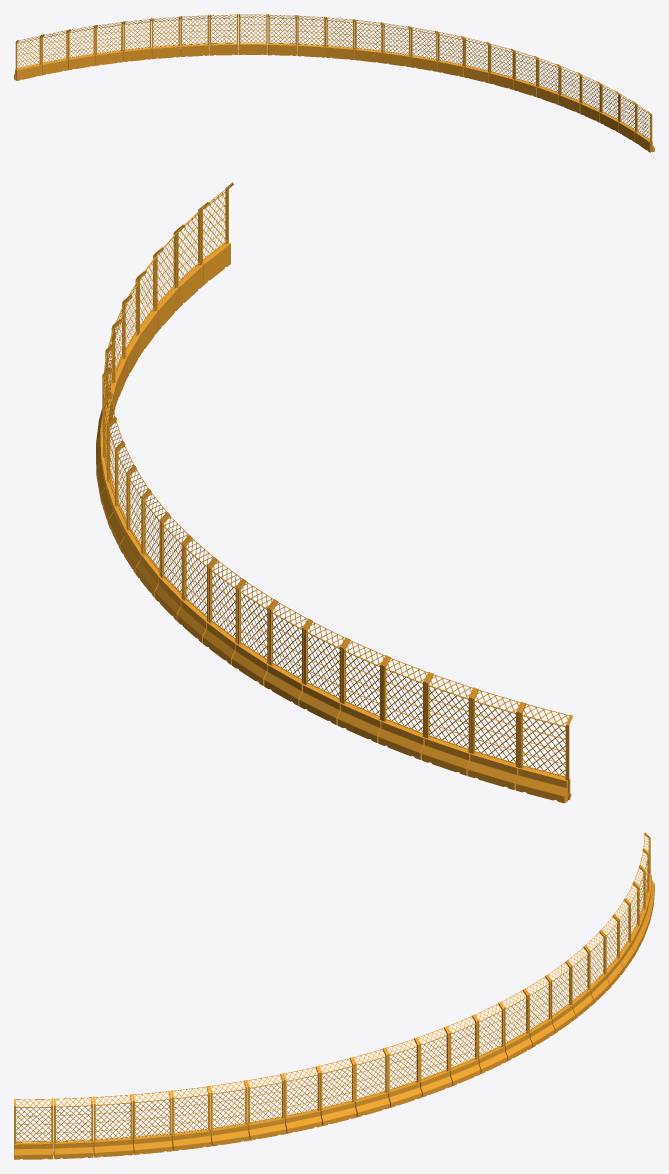
File: SM_Fence_Road_Debrisguard_Net_40m_Corner_Outer.fbx
3 views of the same model, one above another, from view 1: azimuth 30°, elevation 25°; view 2: azimuth 150°, elevation 25°; view 3: azimuth 270°, elevation 25° (orthographic). The views are drawn at different scales.
Parts seen in each view (by area): view 1: SM_Fence_Road_Debrisguard_Net_40m_Corner_Outer; view 2: SM_Fence_Road_Debrisguard_Net_40m_Corner_Outer; view 3: SM_Fence_Road_Debrisguard_Net_40m_Corner_Outer.
Part boxes in pixels (left/top/right/bottom): SM_Fence_Road_Debrisguard_Net_40m_Corner_Outer: left=14, top=14, right=654, bottom=152; SM_Fence_Road_Debrisguard_Net_40m_Corner_Outer: left=96, top=182, right=572, bottom=803; SM_Fence_Road_Debrisguard_Net_40m_Corner_Outer: left=14, top=832, right=654, bottom=1159.
Bounding box in the file's own units: 41.47 × 4.04 × 41.34.
